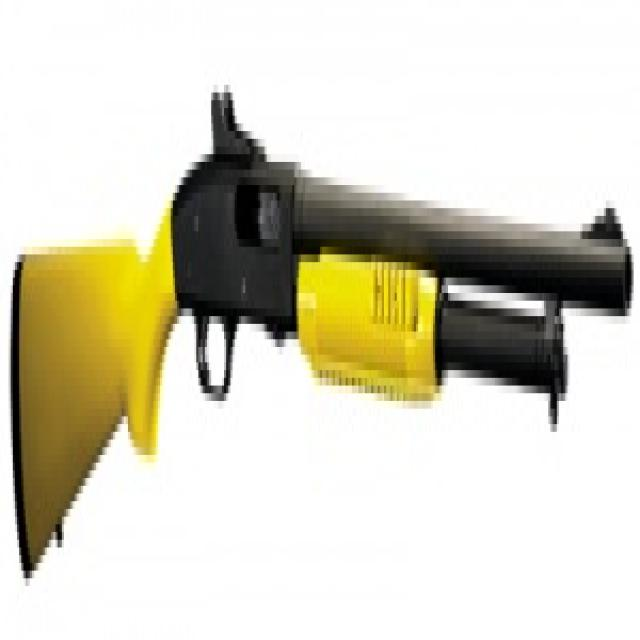rifle: (1, 83, 637, 604)
